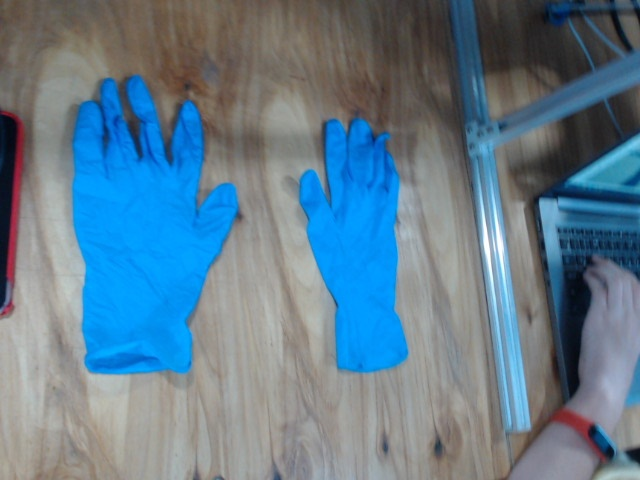medical_glove: (72, 75, 238, 374), (299, 118, 408, 373)
